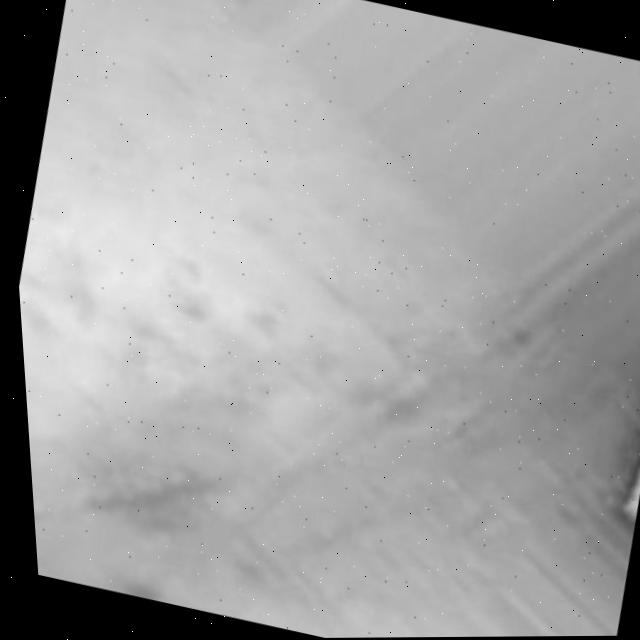Shingles: (16, 239, 433, 561)
